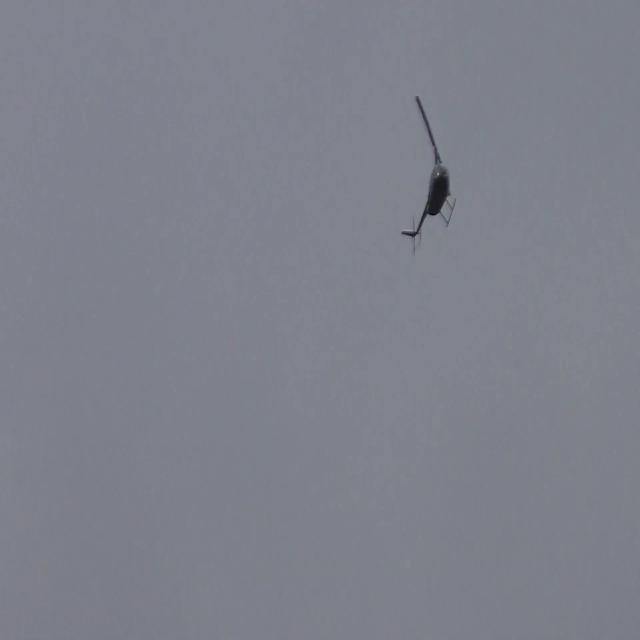CIV_HELO: (401, 148, 457, 238)
